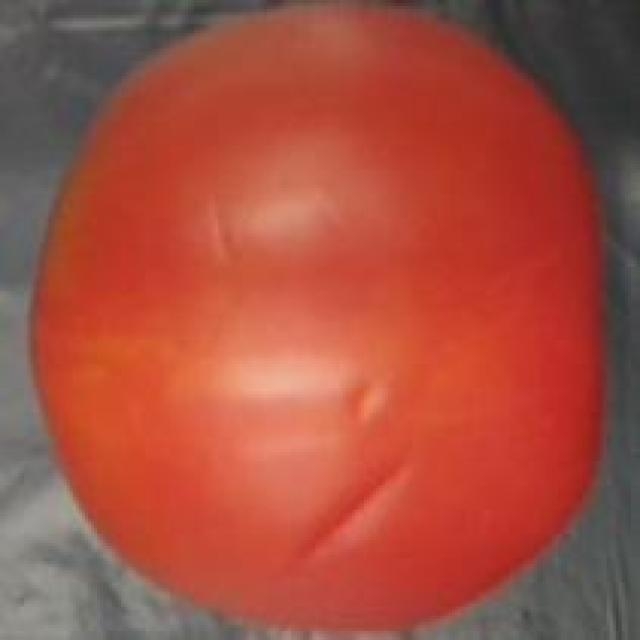ripe tomato: (27, 3, 622, 640)
